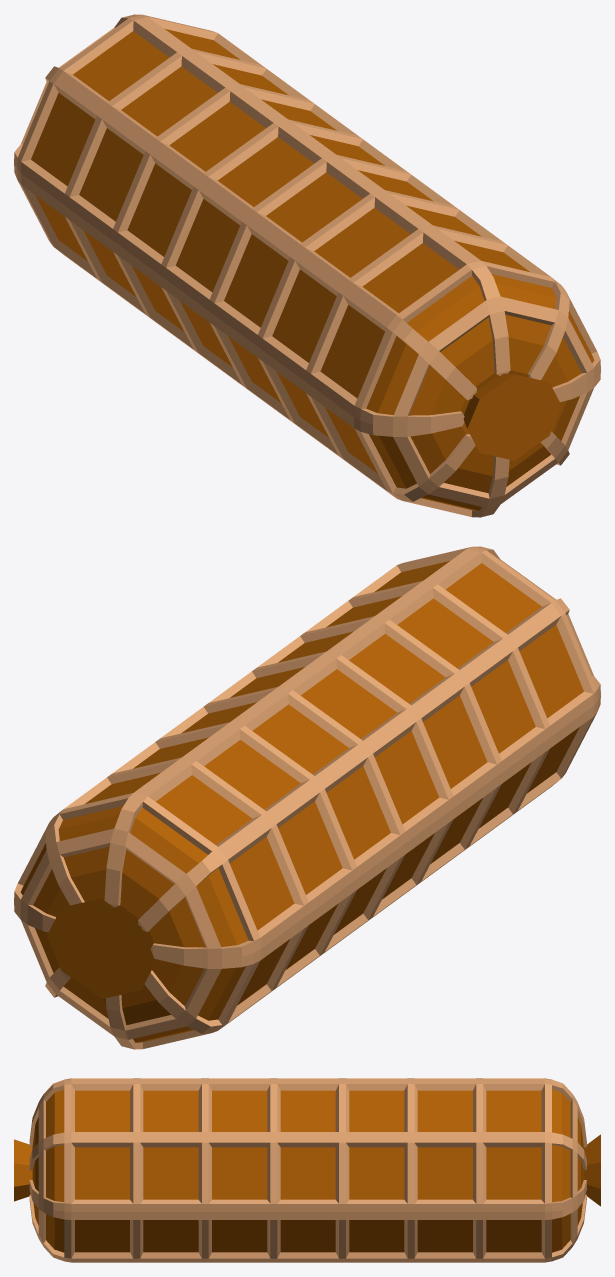
File: Meat Salami 01.fbx
3 views of the same model, one above another, from view 1: azimuth 30°, elevation 25°; view 2: azimuth 150°, elevation 25°; view 3: azimuth 270°, elevation 25° (orthographic). The views are drawn at different scales.
Parts seen in each view (by area): view 1: Meat Salam 01; view 2: Meat Salam 01; view 3: Meat Salam 01.
Part boxes in pixels (<box>): Meat Salam 01: <box>14,14,600,517</box>; Meat Salam 01: <box>14,546,600,1049</box>; Meat Salam 01: <box>14,1078,600,1262</box>.
Size of the model in its own units: 35.26 by 35.17 by 105.
